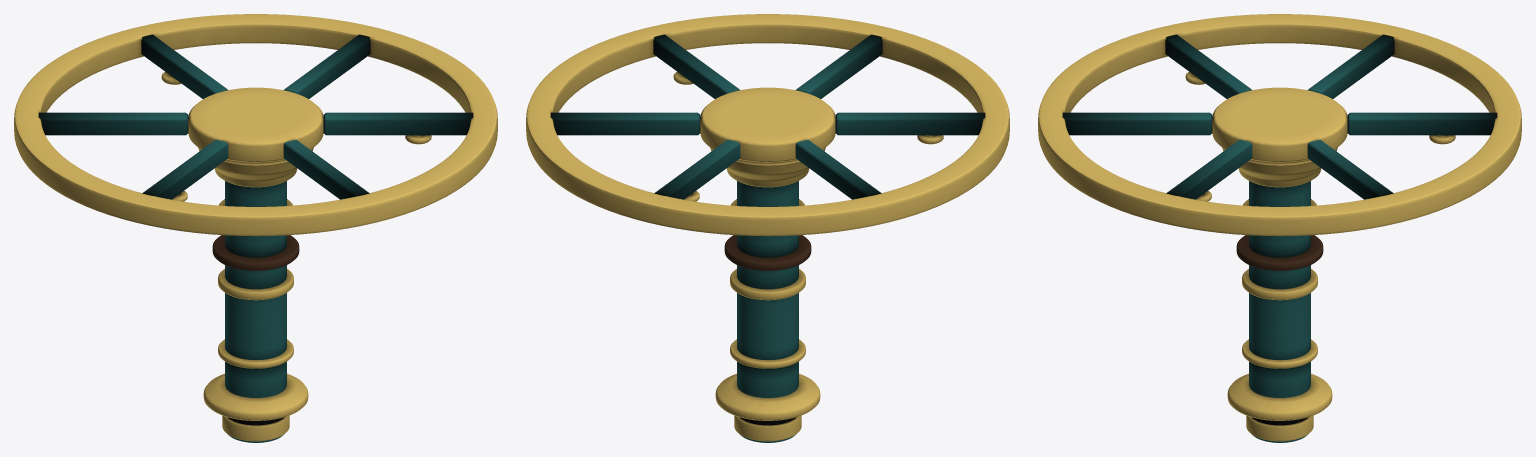
The model's file is carousel_column.glb.
The picture shows the model from 3 angles, left to right: view 1: azimuth 30°, elevation 25°; view 2: azimuth 150°, elevation 25°; view 3: azimuth 270°, elevation 25°; orthographic projection.
Parts seen in each view (by area): view 1: CarouselColumn_UpperRing, CarouselColumn_Column; view 2: CarouselColumn_UpperRing, CarouselColumn_Column; view 3: CarouselColumn_UpperRing, CarouselColumn_Column.
Boxes of the visible parts, box(x1,y1,x2,y2) form: CarouselColumn_UpperRing: box(14, 14, 497, 236); CarouselColumn_Column: box(198, 147, 313, 442); CarouselColumn_UpperRing: box(526, 14, 1009, 236); CarouselColumn_Column: box(710, 147, 825, 442); CarouselColumn_UpperRing: box(1038, 14, 1521, 236); CarouselColumn_Column: box(1222, 147, 1337, 442).
Bounding box in the file's own units: 0.125 × 0.09 × 0.125.
